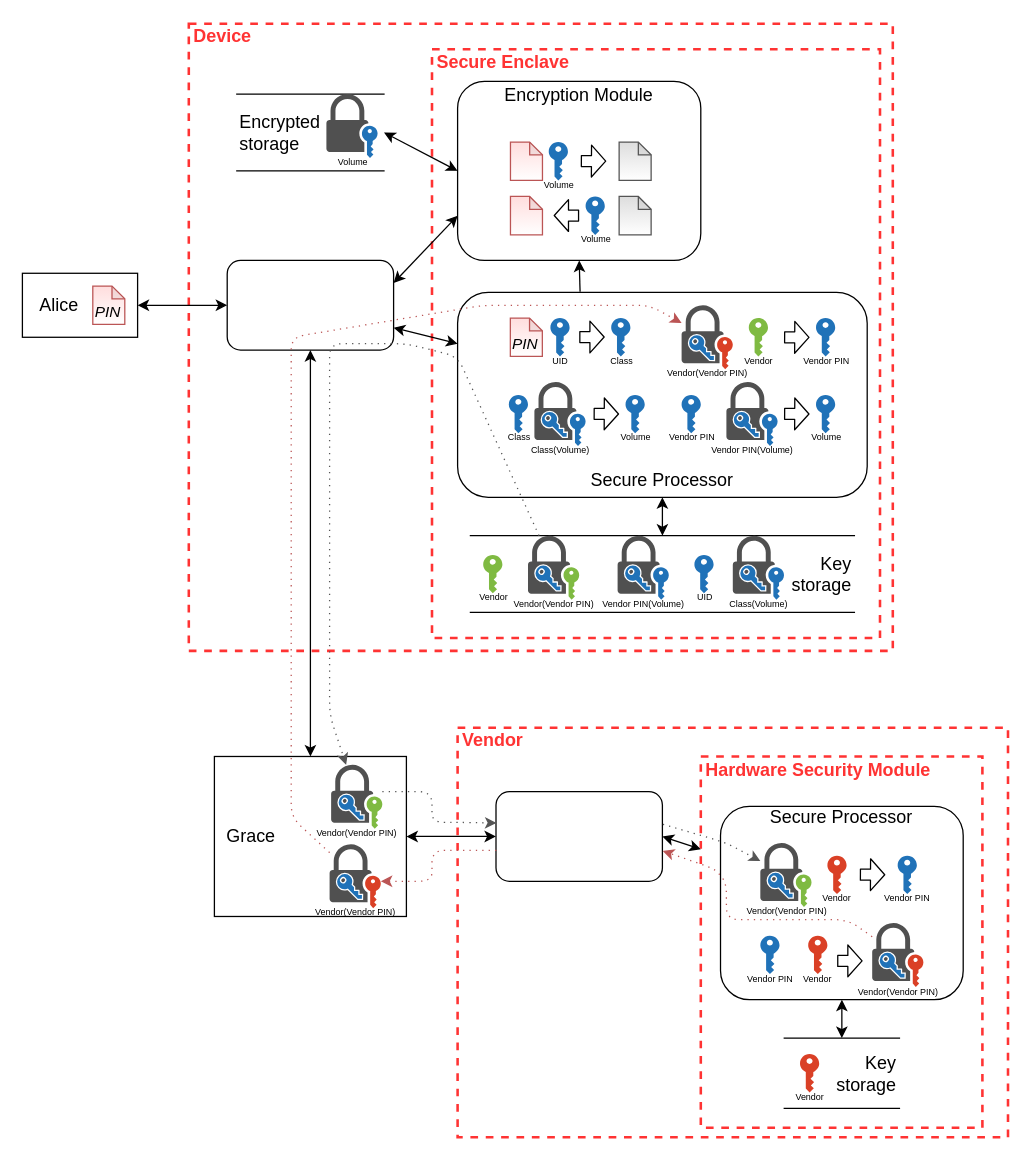
The diagram is 1032 pixels wide and 1160 high, and some of its shapes have lost their labels. The centre of each missing label's shape, as x and y in pixels:
"Access compliance department" belongs at point (578, 835).
"Operating System" belongs at point (310, 304).
